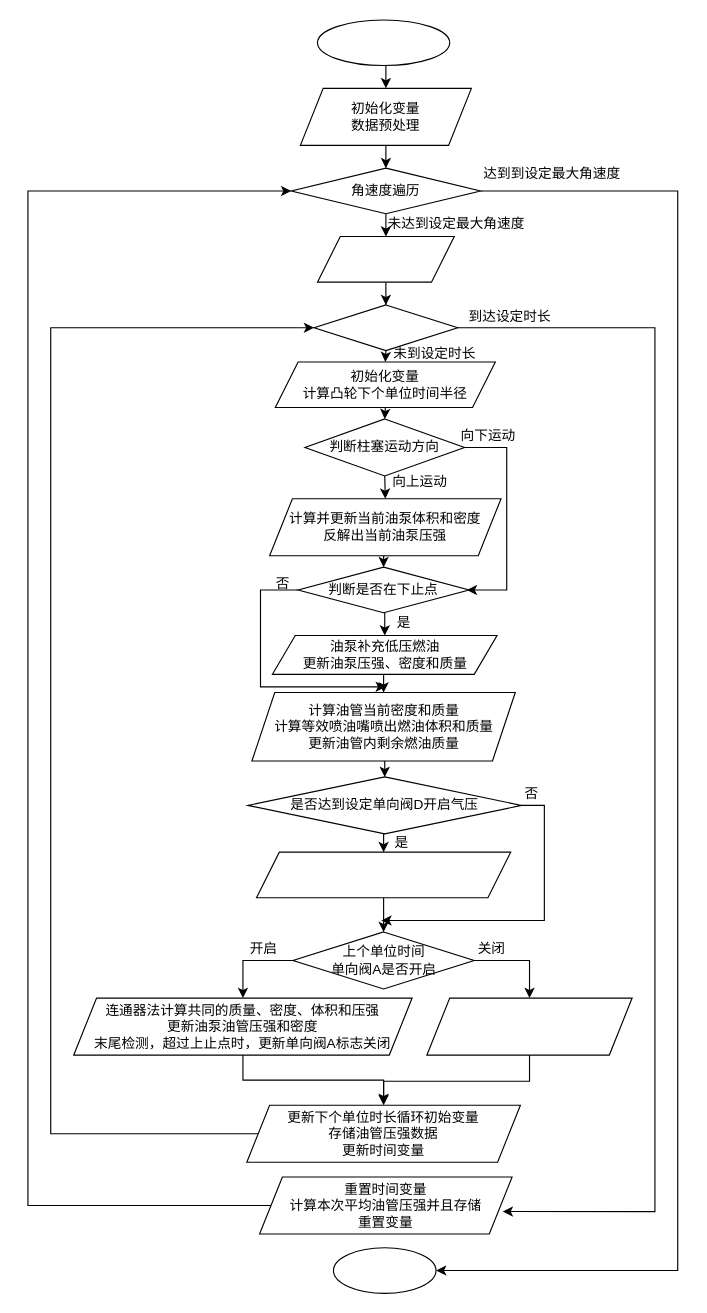
Image size: 707x1313. Some labels were removed from this diagram. Each missing label, with the box of its shape:
内部变量初始化: (316, 235, 454, 282)
开始: (316, 19, 450, 66)
检测油泵压强是否高于油管 更新单向阀A标志: (426, 997, 632, 1055)
模拟时长: (313, 304, 458, 351)
结束: (332, 1247, 436, 1293)
计算单向阀喷出燃油体积和质量 更新油管剩余质量、密度和气压: (255, 851, 511, 898)
